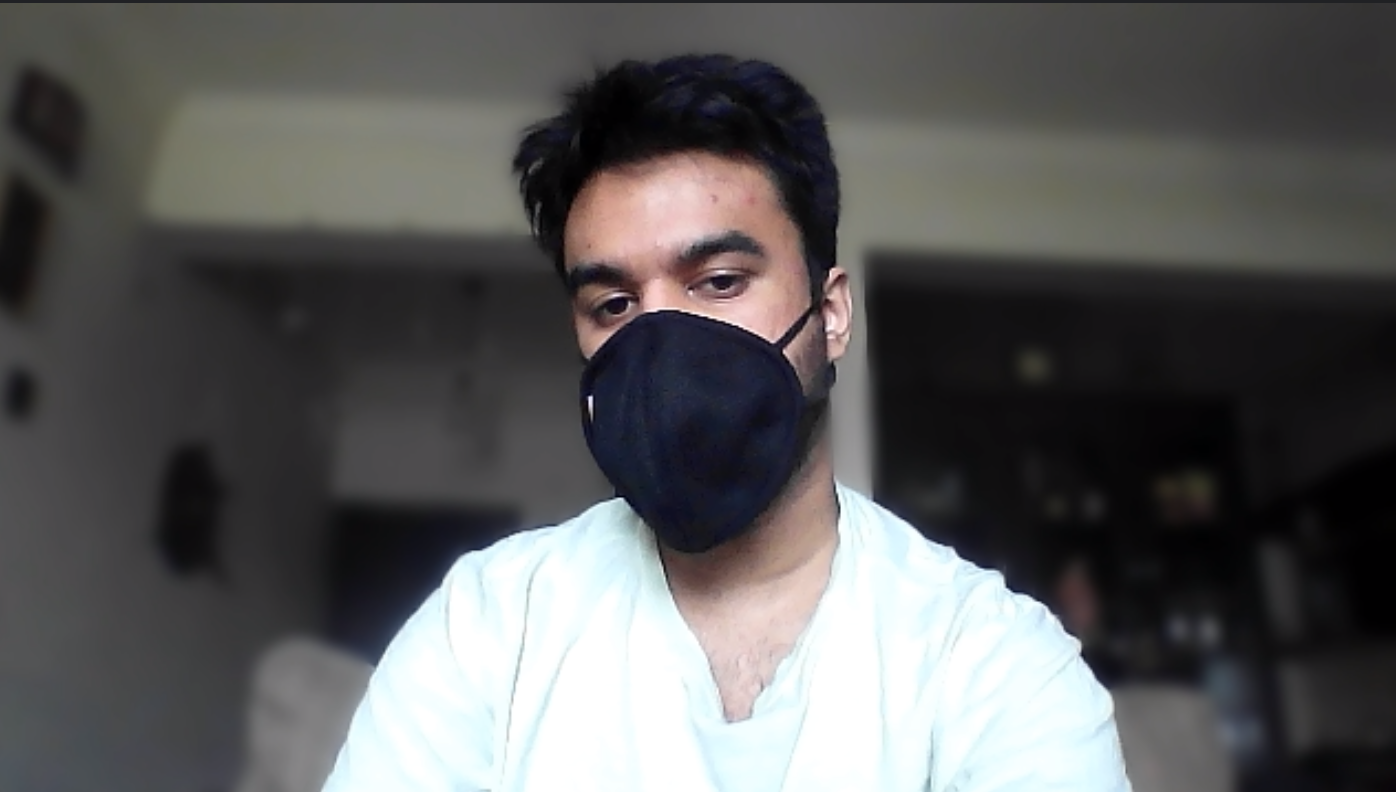Mask: (555, 324, 865, 543)
